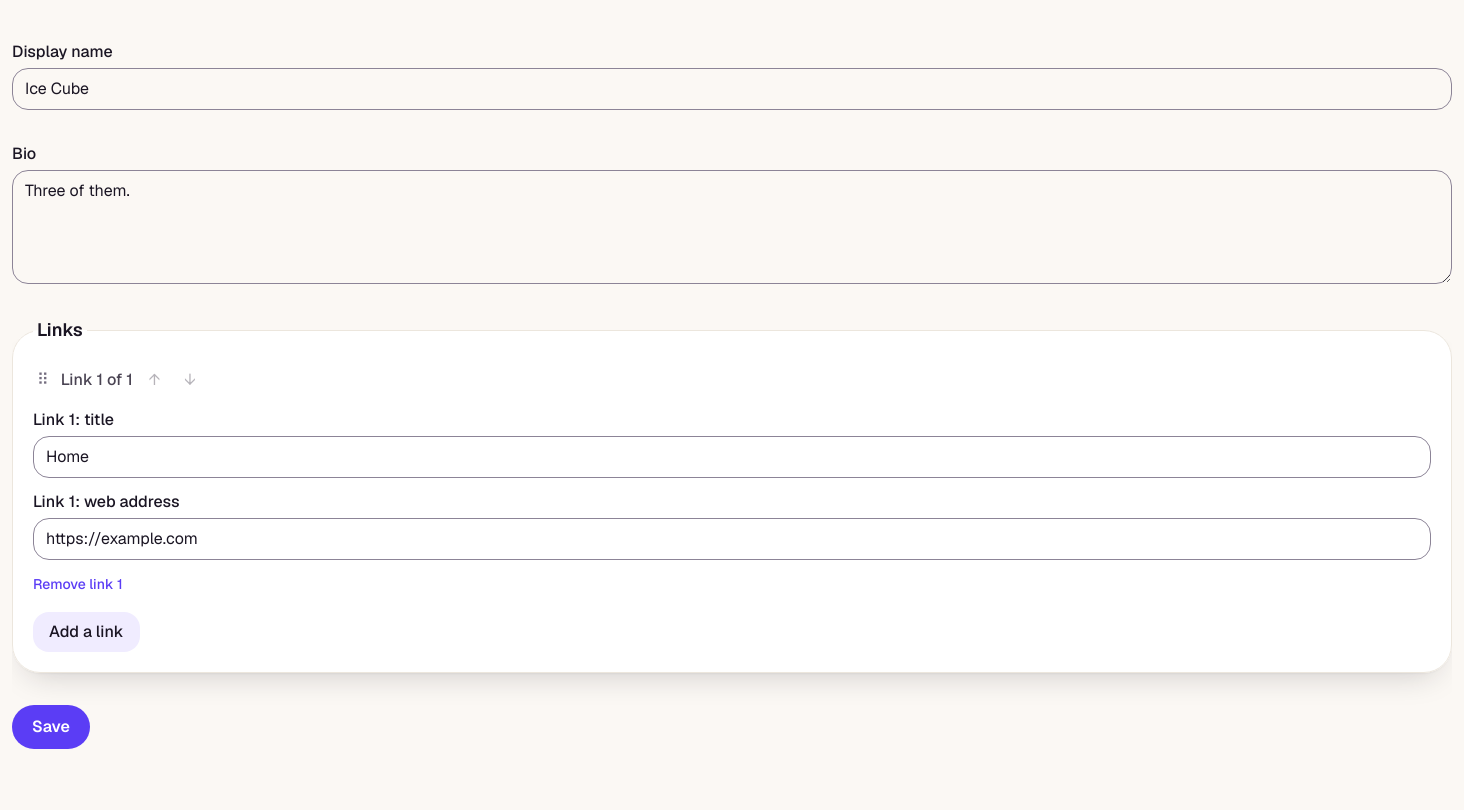
Test case: the Profile form, when the save is rejected › states the limit the domain reported, not one of its own
Click the button "Save" at (51, 727), box [12,705,90,749]
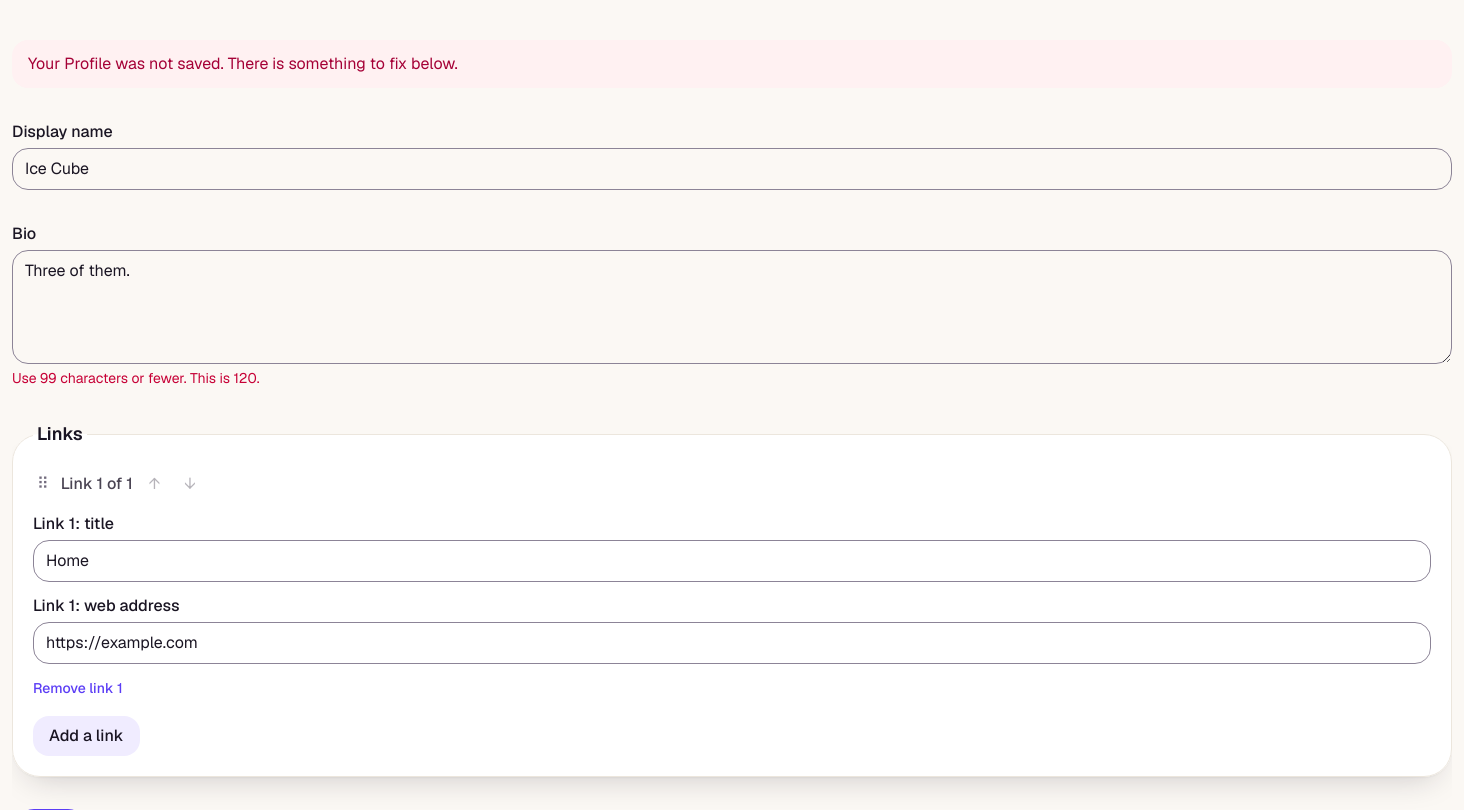
Now the text "Use 99 characters or fewer. This is 120." is shown, box [12,369,260,387]
